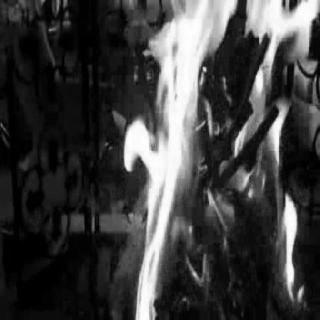Fire: (106, 0, 320, 317)
